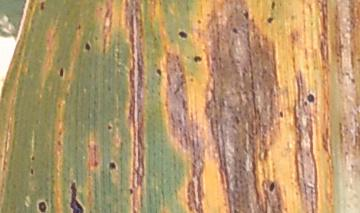tarspot: (70, 181, 83, 213), (38, 201, 48, 213), (307, 91, 316, 103), (108, 160, 117, 171), (58, 65, 65, 79), (242, 9, 250, 21), (192, 54, 202, 63), (177, 30, 188, 38), (232, 25, 240, 36), (38, 1, 46, 11), (277, 109, 285, 119), (268, 181, 275, 192), (84, 41, 91, 52), (105, 122, 113, 131), (267, 14, 274, 24), (270, 1, 277, 11), (29, 166, 35, 176), (156, 66, 162, 76), (29, 154, 36, 161), (129, 186, 133, 196)
